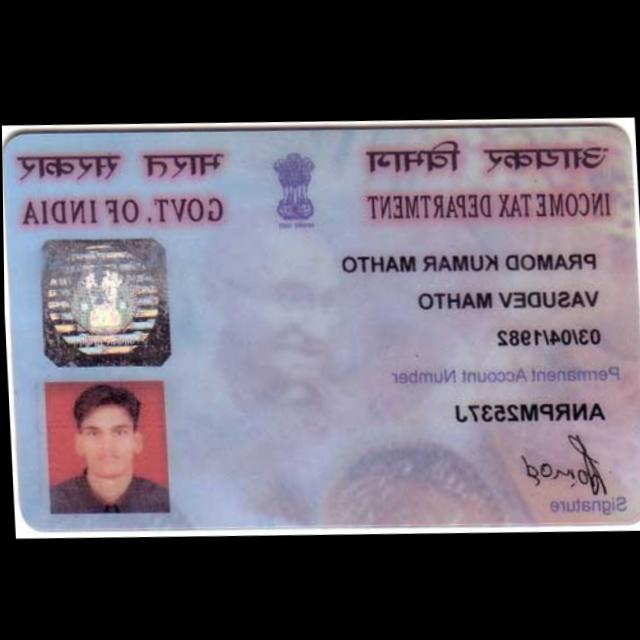pan: (1, 104, 640, 548)
